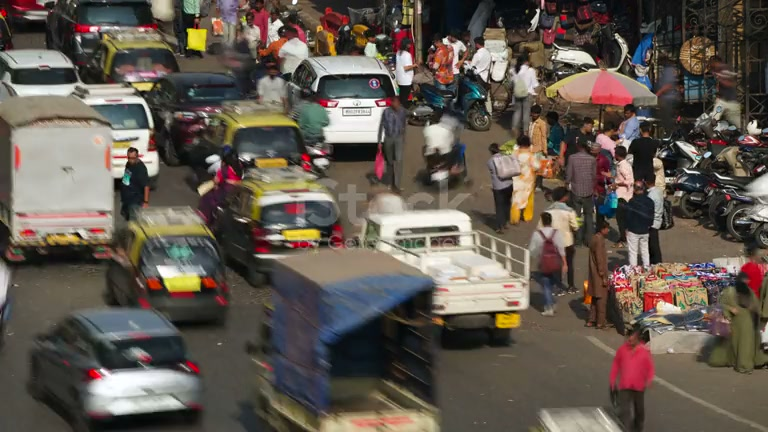car: (246, 244, 444, 431), (361, 208, 530, 346), (25, 305, 205, 429), (215, 164, 344, 288), (103, 205, 230, 326), (286, 55, 400, 153), (210, 100, 331, 180), (144, 71, 243, 165), (72, 84, 162, 183), (44, 0, 161, 67), (82, 27, 182, 94), (0, 48, 86, 99), (0, 0, 50, 30), (0, 256, 15, 341), (0, 12, 14, 52)
motorcycle: (407, 68, 493, 131), (709, 168, 768, 234), (420, 119, 468, 188), (721, 177, 768, 240)
pedestrian: (608, 323, 656, 431), (541, 186, 580, 292), (527, 213, 566, 316), (721, 277, 760, 374), (373, 93, 409, 191), (618, 178, 656, 269), (566, 137, 598, 244), (485, 140, 520, 232), (583, 219, 612, 330), (508, 134, 539, 225), (119, 145, 151, 221), (256, 61, 289, 113)
truck: (245, 245, 445, 430), (0, 95, 117, 264)
